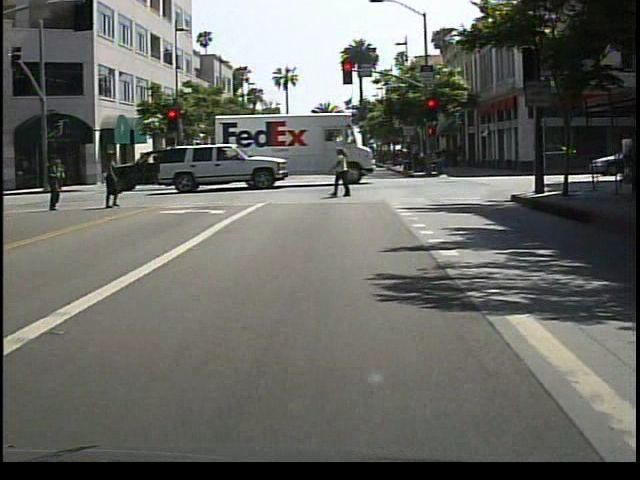person: (100, 149, 126, 213), (44, 154, 71, 211), (333, 147, 361, 200)
